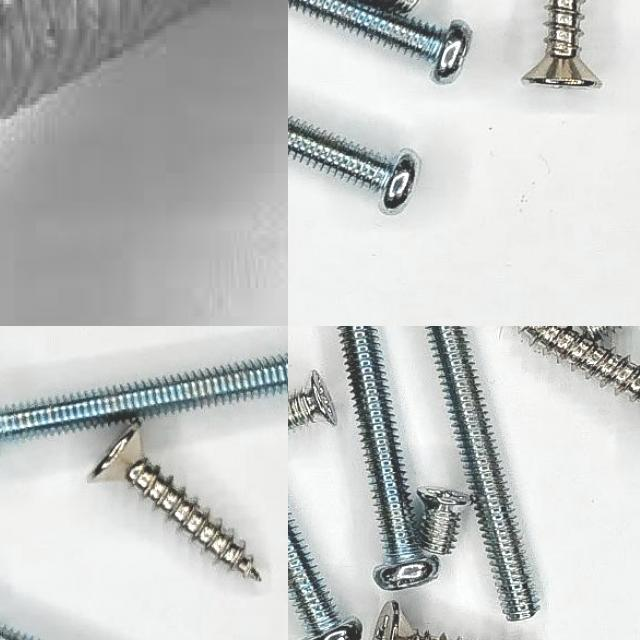Screw: (428, 326, 539, 622), (89, 421, 262, 580), (338, 326, 440, 591), (0, 351, 288, 441), (288, 0, 472, 84), (288, 117, 420, 215), (288, 511, 363, 640), (520, 326, 640, 399), (523, 0, 602, 87), (418, 487, 472, 556), (288, 370, 337, 431)
